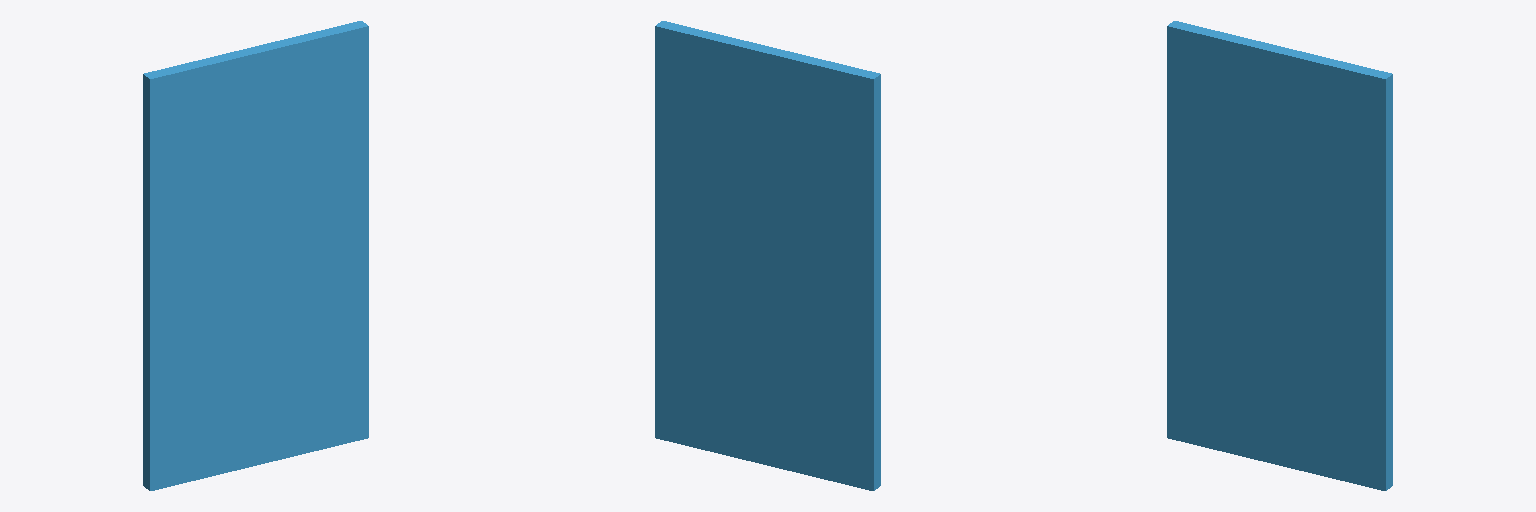
URDF robot description (door_room3):
<?xml version="1.0" ?>
<robot name="door_room3">

  <gazebo reference="base_r3">
    <material>Gazebo/GrassFloor</material>
  </gazebo>
  <link name="world"/>
  <joint name="link_joint_r3" type="prismatic">
    <axis xyz="1 0 0"/>
    <parent link="world"/>
    <origin rpy="0 0 0" xyz="6.15 4.53 0.96"/>
    <limit effort="1000.0" lower="-0" upper="1" velocity="0.5"/>
    <child link="link_r3"/>
    <dynamics damping="10" friction="1000"/>
  </joint>
  <link name="link_r3">
    <inertial>
      <mass value="10"/>
      <origin xyz="0 0 0"/>
      <inertia ixx="1.0" ixy="0.0" ixz="0.0" iyy="0.1" iyz="0.0" izz="0.1"/>
    </inertial>
    <visual>
      <origin rpy="0 0 0" xyz="0 0 0"/>
      <geometry>
        <box size="1 0.06 1.8"/>
      </geometry>
    </visual>
    <collision>
      <origin rpy="0 0 0" xyz="0 0 0"/>
      <geometry>
        <box size="1 0.06 1.8"/>
      </geometry>
    </collision>
  </link>
  <gazebo reference="link_r3">
    <material>Gazebo/RustySteel</material>
    <turnGravityOff>true</turnGravityOff>
  </gazebo>
</robot>

--- What the picture shows (computed from the rendered views, not written in the file) ---
The picture shows the robot from 3 angles, left to right: view 1: azimuth 30°, elevation 25°; view 2: azimuth 150°, elevation 25°; view 3: azimuth 330°, elevation 25°; orthographic projection.
Robot: door_room3 — 2 links, 1 joints (1 prismatic); root link world; default pose: every joint at zero.
Visible links, largest first — view 1: link_r3; view 2: link_r3; view 3: link_r3.
Boxes of the visible links, x1,y1,x2,y2 form: link_r3: [143, 21, 368, 490]; link_r3: [655, 21, 880, 490]; link_r3: [1167, 21, 1392, 490].
Size in the robot's own frame: 1 by 0.06 by 1.8 metres.
Geometry: primitives only (box / cylinder / sphere), no mesh files.
